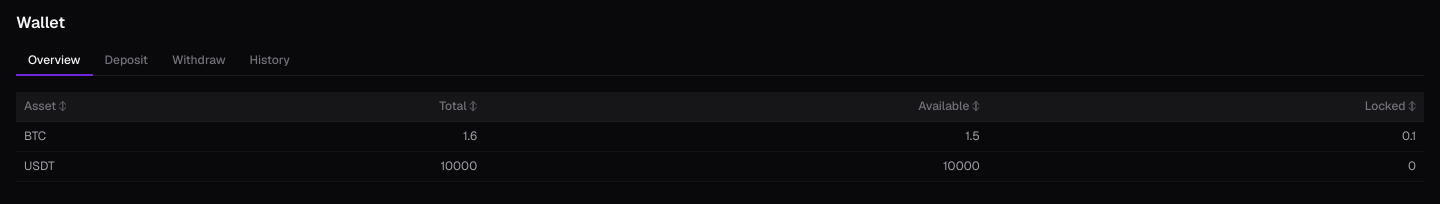
Test case: WalletPage › history tab shows combined deposit and withdrawal records
Step 1. Click the tab "History" → (270, 61), box [238,46,302,76]
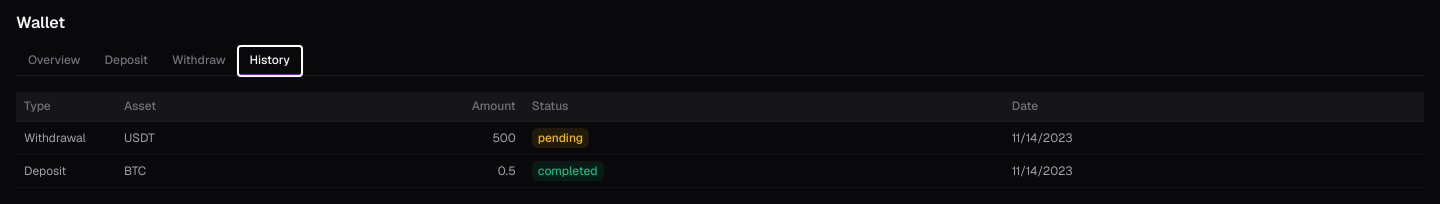
Now the text "Withdrawal" is shown, box [16,122,116,155]
Now the text "0.5" is shown, box [196,155,524,188]
Now the text "500" is shown, box [196,122,524,155]
